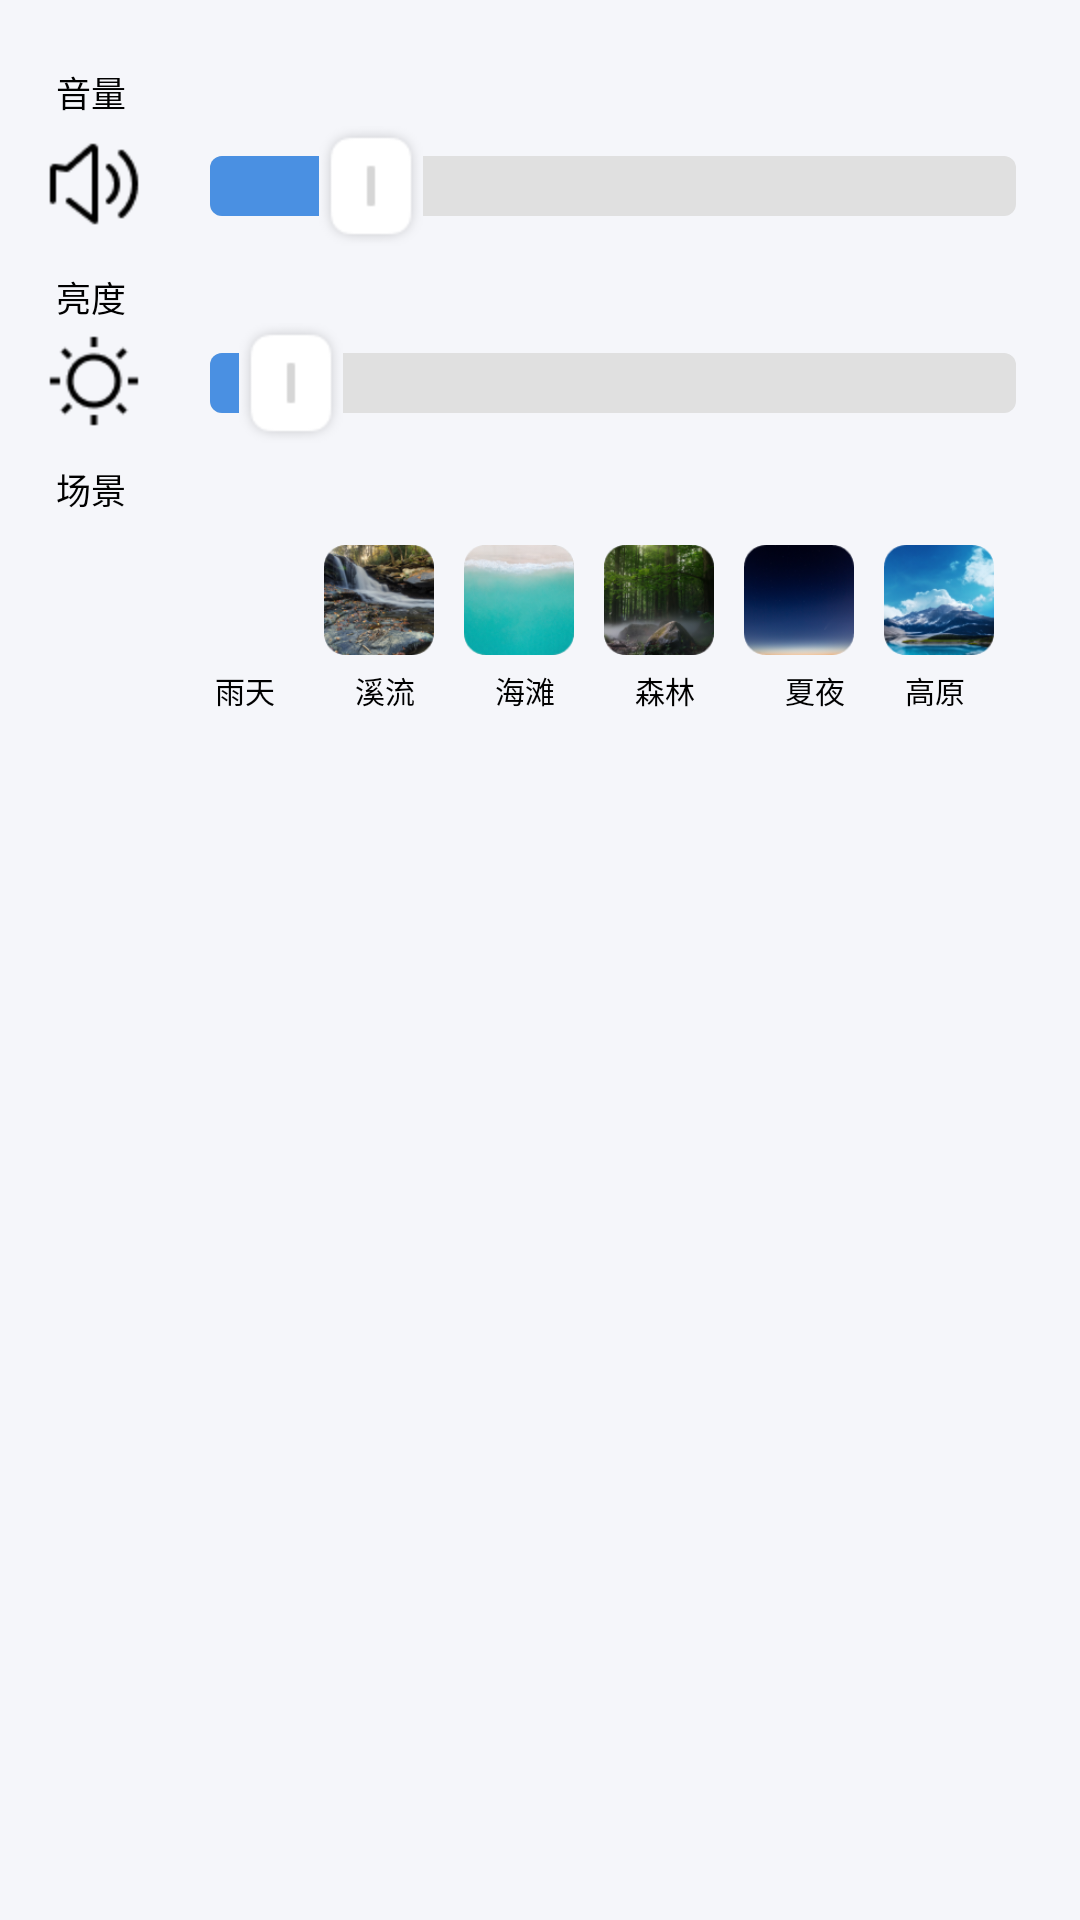

Point at icon controls on the screen. Image size 1080 x 1920, points as (x,y).
qingjing: (379,600), (519,600), (659,600), (799,600), (939,600)
